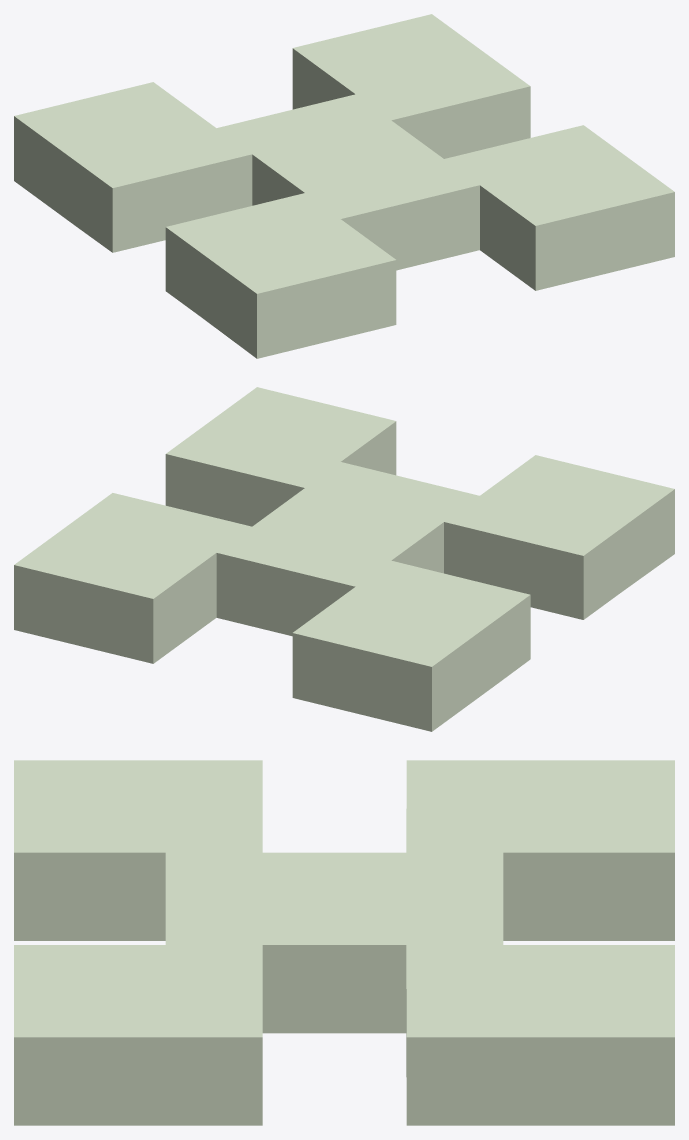
The model's file is Island.fbx.
The picture shows the model from 3 angles, top to bottom: view 1: azimuth 30°, elevation 25°; view 2: azimuth 150°, elevation 25°; view 3: azimuth 270°, elevation 25°; orthographic projection. The views are drawn at different scales.
Parts seen in each view (by area): view 1: Ground_Island; view 2: Ground_Island; view 3: Ground_Island.
Part boxes in pixels (box(x1,y1,x2,y2)): Ground_Island: box(14, 14, 674, 358); Ground_Island: box(14, 387, 674, 731); Ground_Island: box(14, 760, 674, 1125).
Size of the model in its own units: 13490 by 2004 by 13590.
